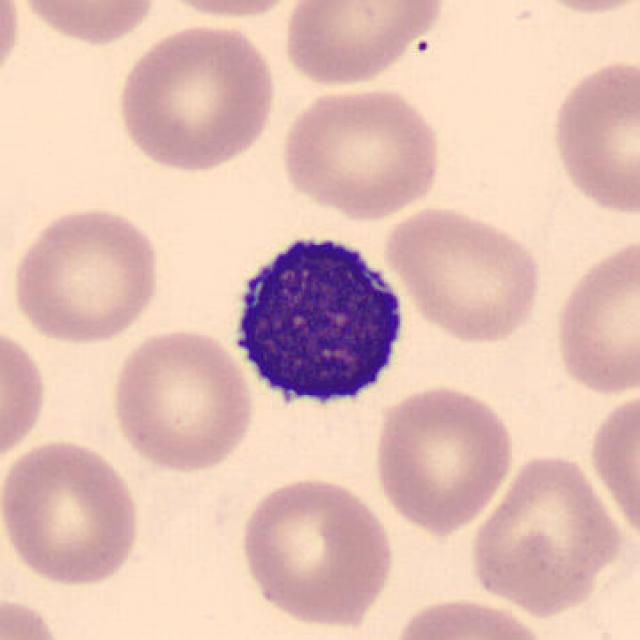Lymphocyte: (219, 222, 416, 423)
RBC: (466, 450, 628, 617), (112, 20, 281, 176), (235, 472, 396, 630), (378, 202, 546, 346), (276, 81, 446, 220), (106, 324, 258, 474), (0, 434, 146, 590), (9, 201, 165, 347), (370, 381, 517, 534), (279, 0, 452, 90), (549, 233, 640, 400), (546, 55, 638, 220), (585, 386, 640, 548), (386, 592, 554, 640), (0, 319, 50, 467), (12, 0, 161, 49), (146, 0, 313, 21), (0, 592, 71, 640), (0, 0, 23, 93)
